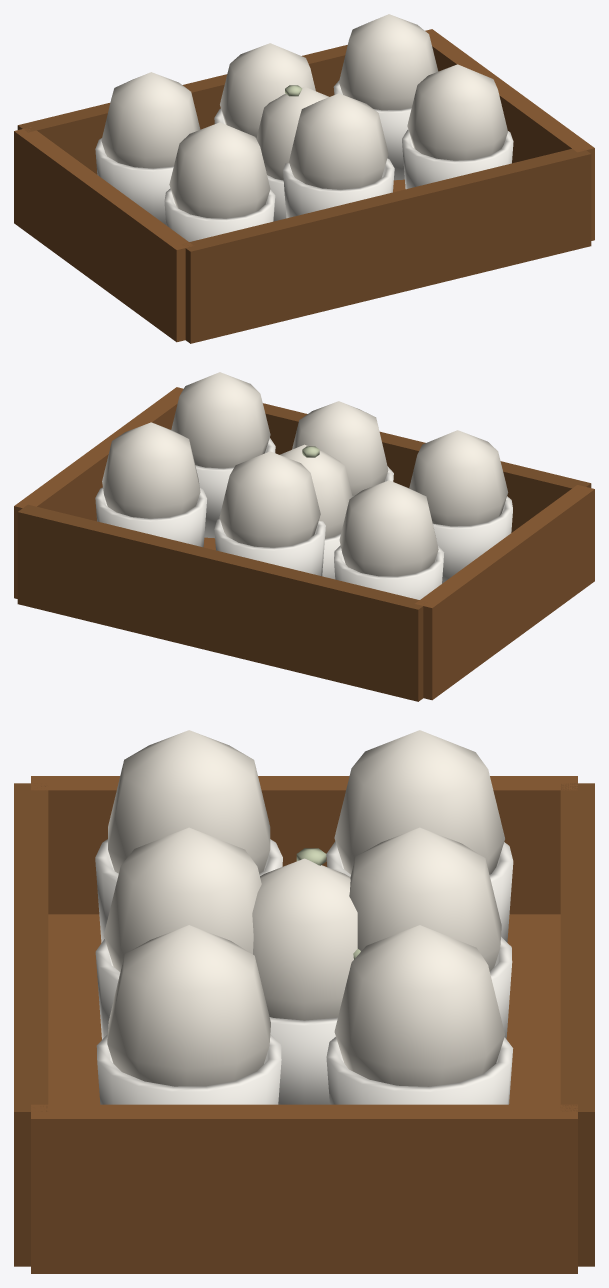
File: Egg_Boiled.fbx
3 renders of one model, top to bottom at view 1: azimuth 30°, elevation 25°; view 2: azimuth 150°, elevation 25°; view 3: azimuth 270°, elevation 25°, orthographic. The views are drawn at different scales.
Visible parts, largest first — view 1: Egg_Boiled__Stack, Egg_Boiled; view 2: Egg_Boiled__Stack, Egg_Boiled; view 3: Egg_Boiled__Stack, Egg_Boiled.
Part boxes in pixels (left/top/right/bottom): Egg_Boiled__Stack: left=14, top=14, right=594, bottom=343; Egg_Boiled: left=256, top=86, right=328, bottom=221; Egg_Boiled__Stack: left=14, top=372, right=594, bottom=701; Egg_Boiled: left=280, top=444, right=352, bottom=579; Egg_Boiled__Stack: left=14, top=730, right=594, bottom=1273; Egg_Boiled: left=252, top=858, right=357, bottom=1104.
Size of the model in its own units: 0.19 by 0.071 by 0.136.
